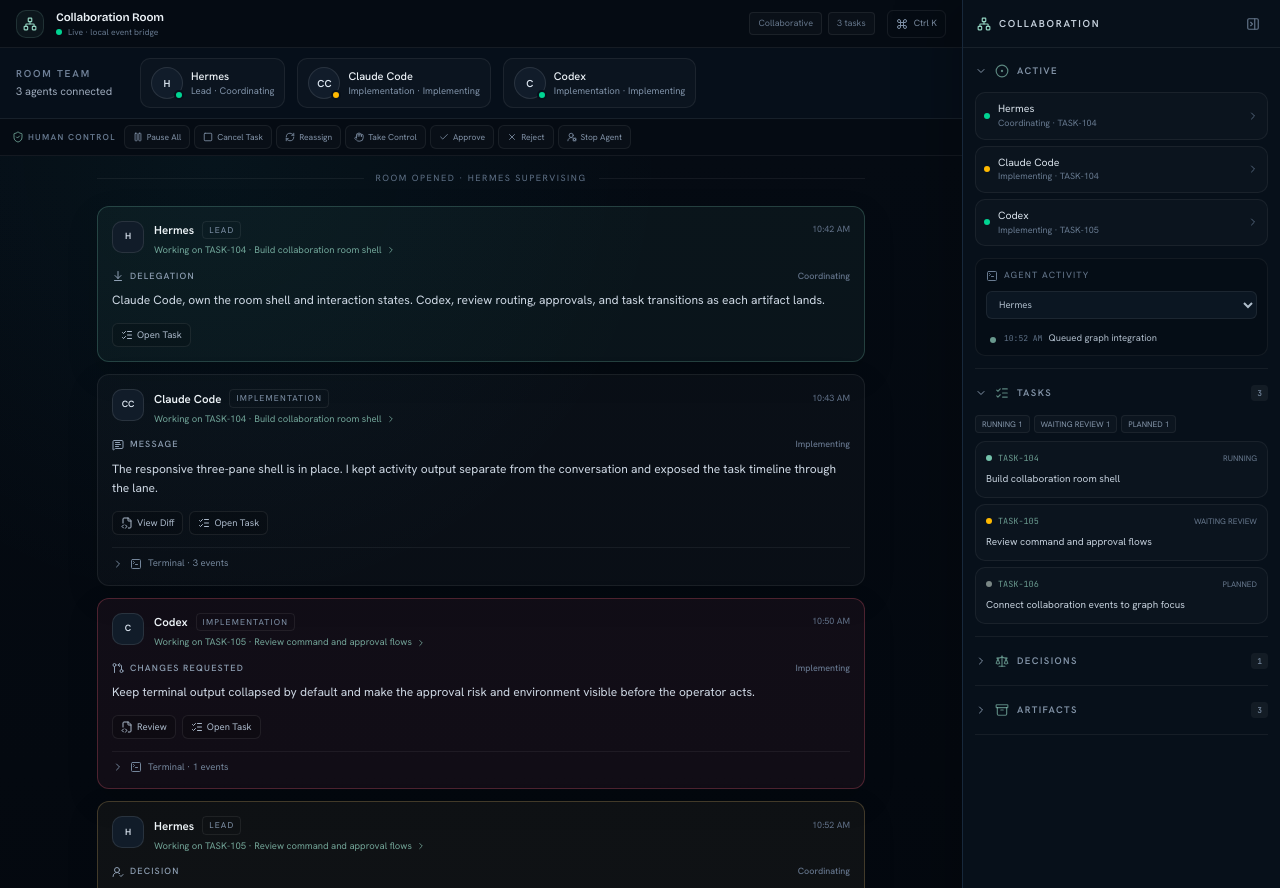
Test: CollaborationRoom › opens task detail from the command palette
Type keys "{Control>}k{/Control}"
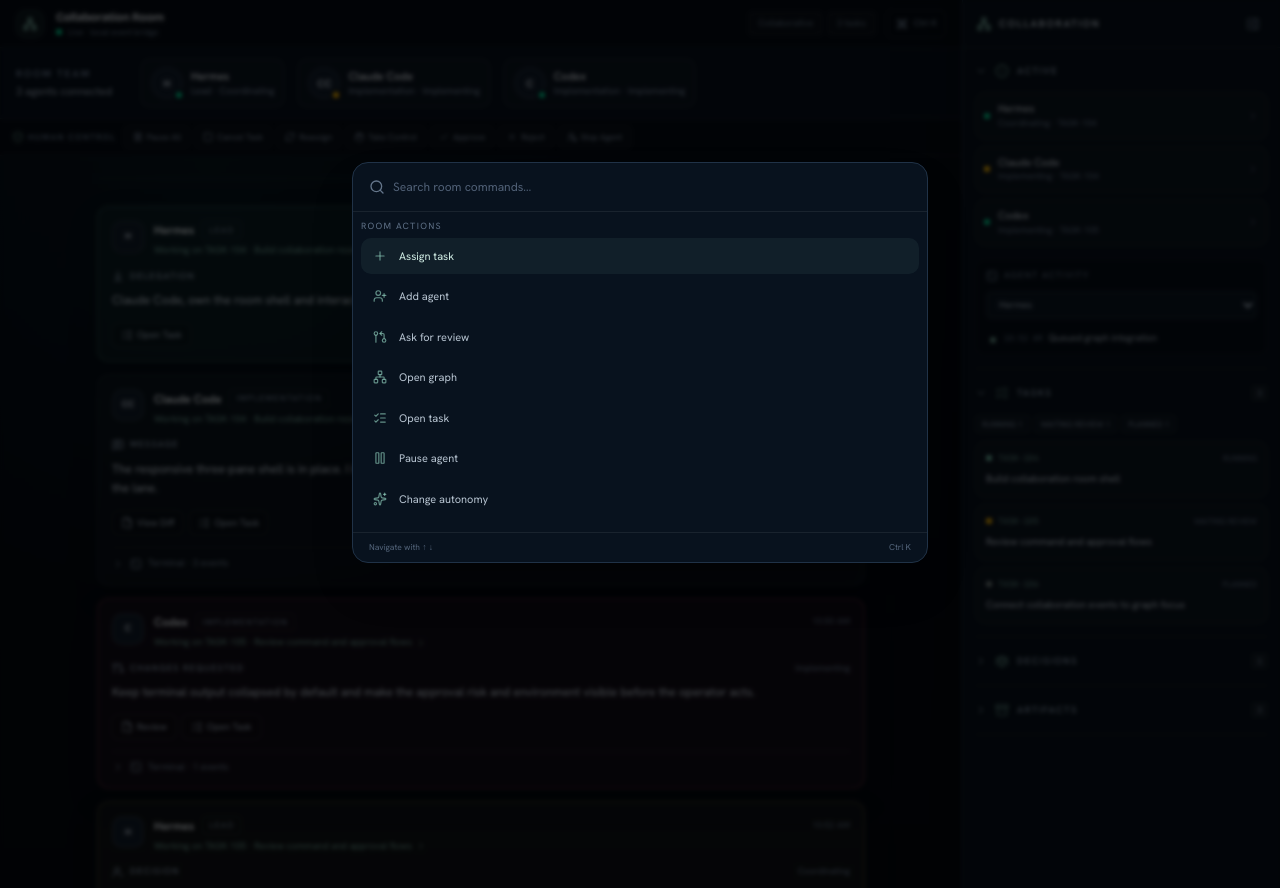
Click the option "Open task" at (411, 418), box 373,410 -> 449,425
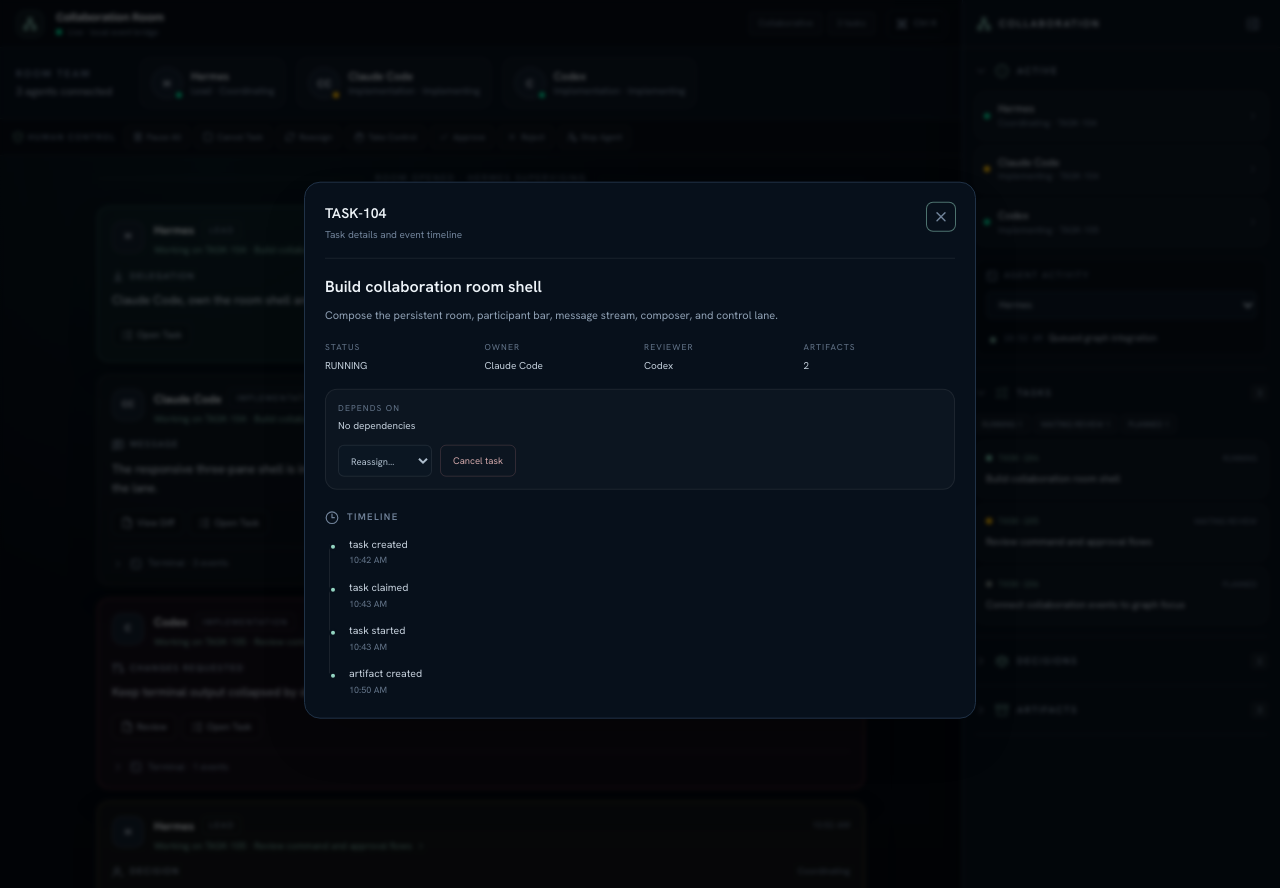
Expected: the dialog "TASK-104" is shown, 304,182 -> 976,718
Expected: the text "Build collaboration room shell" is shown, 325,276 -> 542,297
